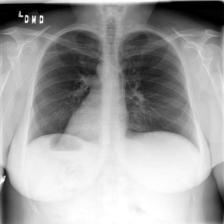normal: (23, 25, 203, 157)
